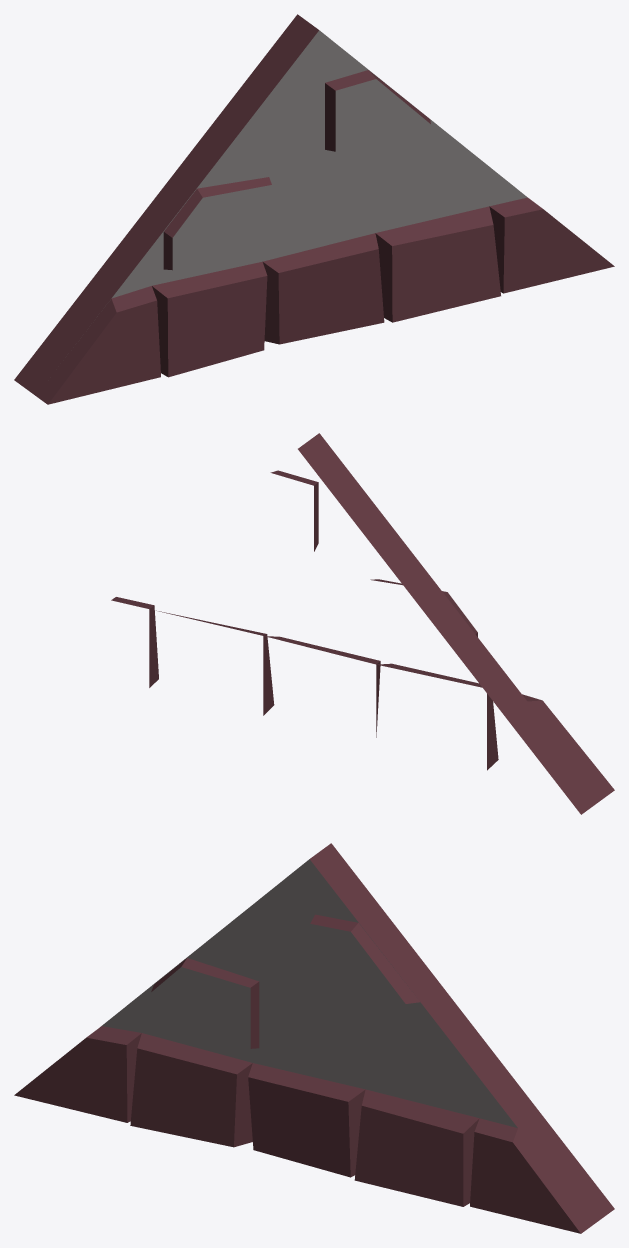
File: buildings-wall-stone-end-3x3m-b.glb
3 renders of one model, top to bottom at view 1: azimuth 30°, elevation 25°; view 2: azimuth 150°, elevation 25°; view 3: azimuth 330°, elevation 25°, orthographic.
Parts seen in each view (by area): view 1: wall-stone-end-3x3m-b; view 2: wall-stone-end-3x3m-b; view 3: wall-stone-end-3x3m-b.
Part boxes in pixels (box(x1,y1,x2,y2)): wall-stone-end-3x3m-b: box(14, 14, 614, 404); wall-stone-end-3x3m-b: box(111, 433, 614, 814); wall-stone-end-3x3m-b: box(14, 843, 614, 1233).
Bounding box in the file's own units: 3 × 1.5 × 0.3284.
